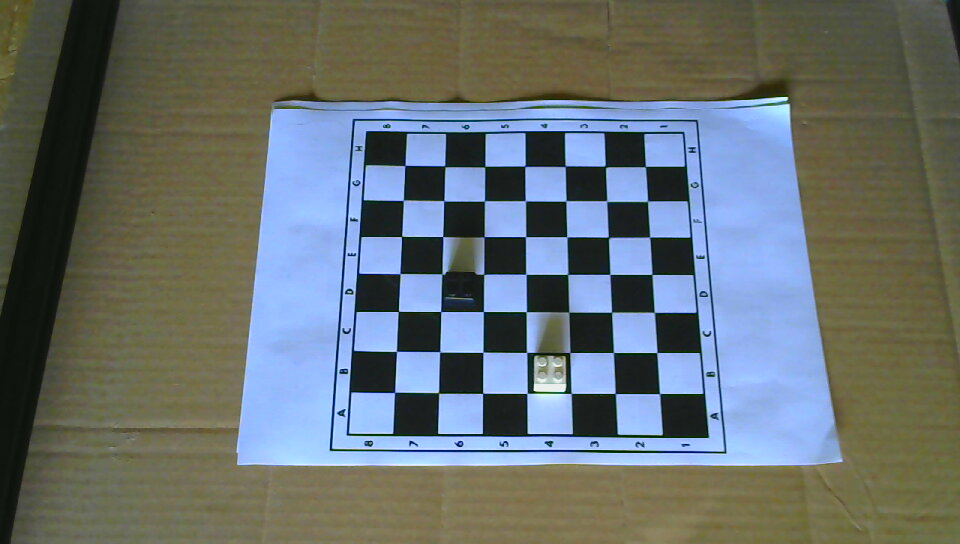bp: (442, 268, 477, 308)
wp: (533, 351, 569, 394)
